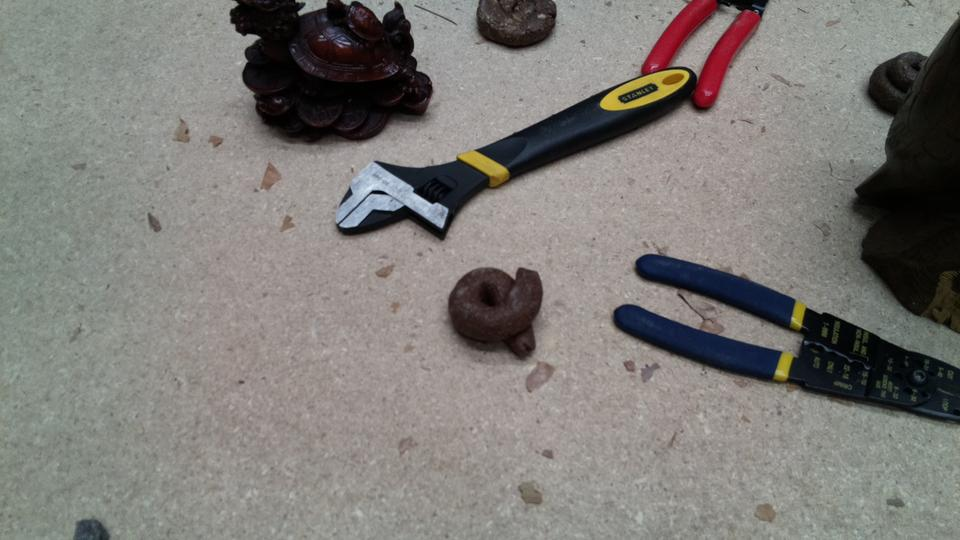poop: (447, 261, 545, 361), (865, 49, 933, 118), (473, 1, 559, 52)
